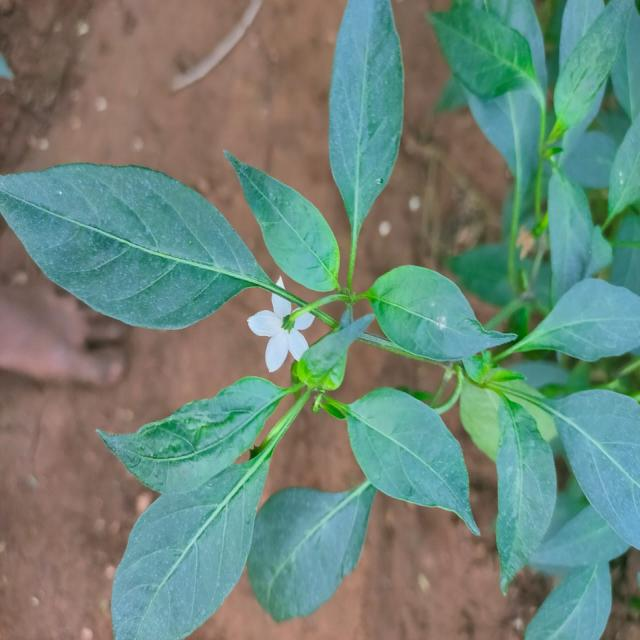Mosaic_virus: (344, 0, 640, 640), (0, 146, 345, 640)
